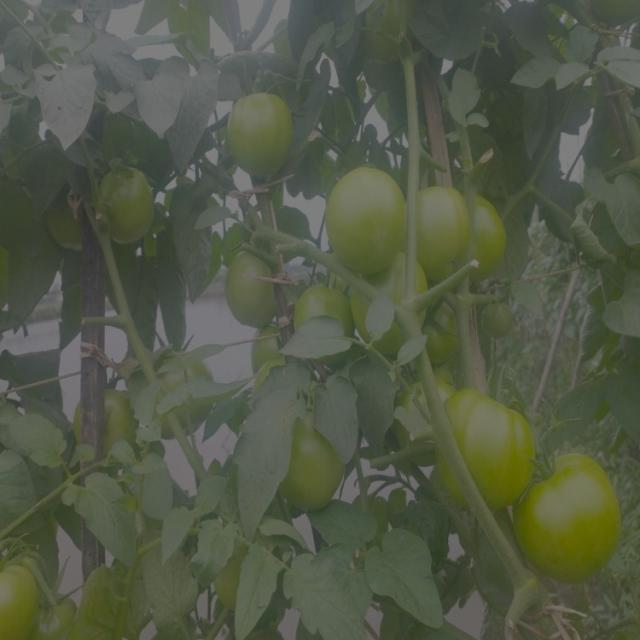tomato: (512, 443, 616, 575), (443, 382, 539, 500), (126, 344, 220, 452), (333, 161, 410, 268), (229, 81, 299, 185), (280, 415, 344, 515), (93, 157, 156, 248), (365, 260, 425, 343), (463, 191, 514, 288), (227, 252, 285, 329), (294, 276, 350, 346), (1, 541, 39, 640), (413, 181, 460, 259), (77, 386, 126, 452), (80, 568, 125, 636), (430, 303, 459, 372), (253, 326, 290, 377), (480, 296, 517, 342), (45, 584, 71, 640)
